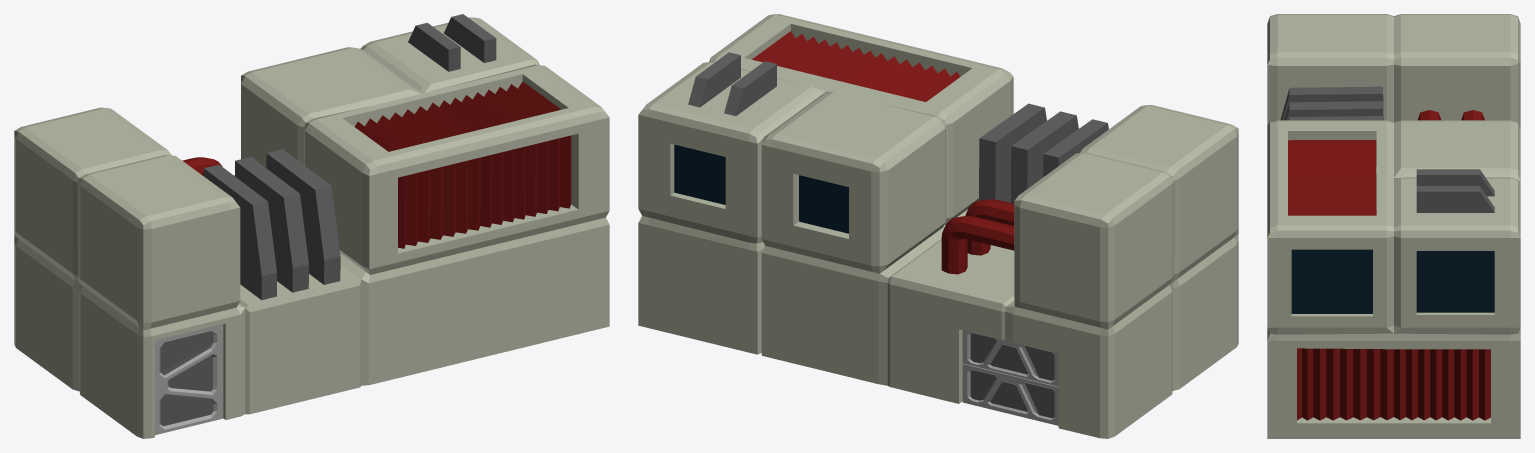
3 views of the same model, side by side, from view 1: azimuth 30°, elevation 25°; view 2: azimuth 150°, elevation 25°; view 3: azimuth 270°, elevation 25° (orthographic). The views are drawn at different scales.
Parts seen in each view (by area): view 1: H_20x10x10; view 2: H_20x10x10; view 3: H_20x10x10.
Part boxes in pixels (x1=…): H_20x10x10: x1=14, y1=14, x2=609, y2=438; H_20x10x10: x1=638, y1=14, x2=1238, y2=438; H_20x10x10: x1=1267, y1=14, x2=1520, y2=438.
Bounding box in the file's own units: 2032 × 1000 × 993.
